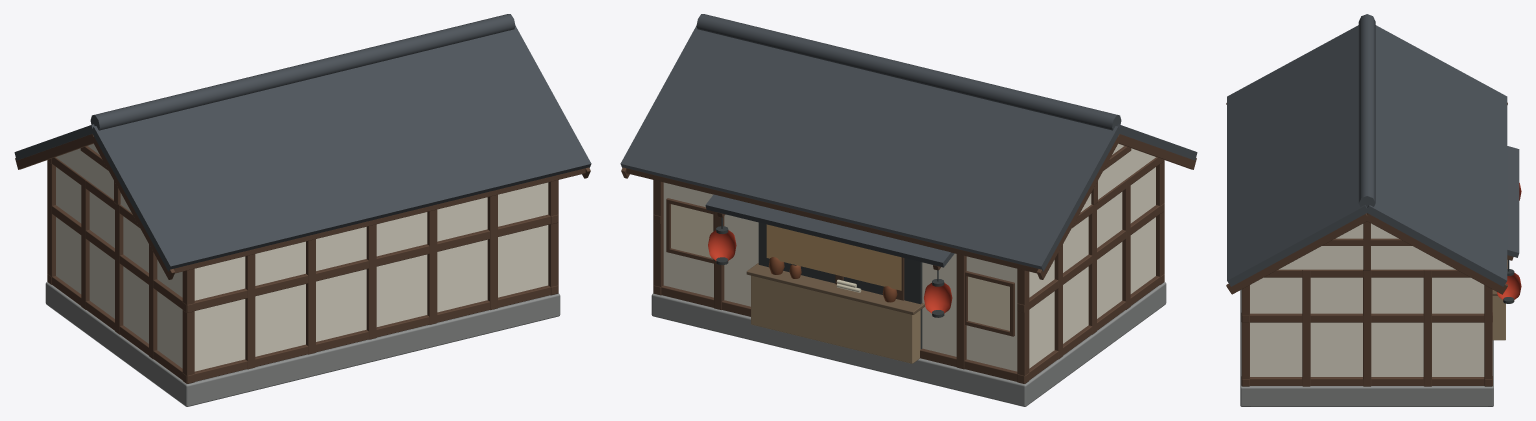
Rendered from village-shop.glb.
3 renders of one model, left to right at view 1: azimuth 30°, elevation 25°; view 2: azimuth 150°, elevation 25°; view 3: azimuth 270°, elevation 25°, orthographic. The views are drawn at different scales.
Parts seen in each view (by area): view 1: cell-0-1:village-roof, cell-2-1:village-roof, cell-1-1:village-roof, cell-0-1:village-plaster, cell-0-1:village-cedar, cell-1-1:village-plaster, cell-2-1:village-plaster, cell-1-1:village-cedar, cell-0-0:village-plaster, cell-2-1:village-cedar, cell-0-0:village-cedar, cell-0-1:village-stone (+4 smaller); view 2: cell-0-0:village-roof, cell-2-0:village-roof, cell-1-0:village-roof, cell-0-0:village-plaster, cell-0-0:village-cedar, cell-1-0:planks, cell-0-1:village-plaster, cell-0-1:village-cedar, cell-2-0:village-plaster, cell-0-0:village-stone, cell-1-0:village-writing, cell-2-0:village-cedar (+16 smaller); view 3: cell-2-1:village-plaster, cell-2-0:village-plaster, cell-2-0:village-roof, cell-2-1:village-roof, cell-0-0:village-roof, cell-0-1:village-roof, cell-1-0:village-roof, cell-1-1:village-roof, cell-2-1:village-cedar, cell-2-0:village-cedar, cell-2-1:village-stone, cell-2-0:village-stone (+2 smaller).
Part boxes in pixels (x1,y1,x2,y2): cell-0-1:village-roof: (92,80,315,271); cell-2-1:village-roof: (368,14,591,202); cell-1-1:village-roof: (238,49,445,234); cell-0-1:village-plaster: (120,193,305,371); cell-0-1:village-cedar: (93,136,314,383); cell-1-1:village-plaster: (316,212,427,341); cell-2-1:village-plaster: (437,182,548,312); cell-1-1:village-cedar: (306,203,444,354); cell-0-0:village-plaster: (56,143,114,318); cell-2-1:village-cedar: (437,167,590,322); cell-0-0:village-cedar: (15,134,116,332); cell-0-1:village-stone: (115,333,308,406); cell-0-0:village-roof: (889,80,1119,271); cell-2-0:village-roof: (620,14,843,222); cell-1-0:village-roof: (759,49,973,254); cell-0-0:village-plaster: (922,193,1091,371); cell-0-0:village-cedar: (897,136,1118,383); cell-1-0:planks: (767,279,896,359); cell-0-1:village-plaster: (1097,143,1155,318); cell-0-1:village-cedar: (1095,134,1196,332); cell-2-0:village-plaster: (663,182,758,306); cell-0-0:village-stone: (903,333,1096,406); cell-1-0:village-writing: (769,225,898,289); cell-2-0:village-cedar: (621,167,767,316); cell-2-1:village-plaster: (1250,224,1363,376); cell-2-0:village-plaster: (1371,223,1484,376); cell-2-0:village-roof: (1367,133,1519,286); cell-2-1:village-roof: (1227,133,1367,286); cell-0-0:village-roof: (1367,14,1519,172); cell-0-1:village-roof: (1227,14,1367,159); cell-1-0:village-roof: (1367,77,1519,229); cell-1-1:village-roof: (1227,77,1367,216); cell-2-1:village-cedar: (1226,213,1367,386); cell-2-0:village-cedar: (1367,213,1513,386); cell-2-1:village-stone: (1240,334,1367,406); cell-2-0:village-stone: (1367,340,1493,406).
Bounding box in the file's own units: 7.8 × 4.35 × 5.28.
